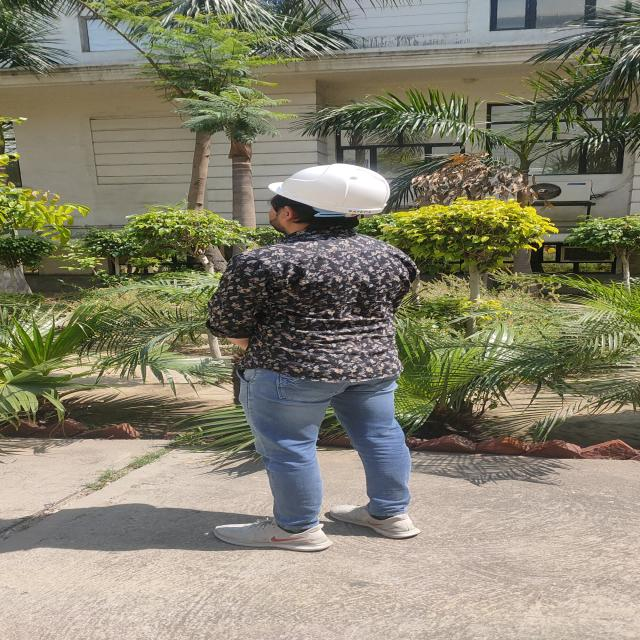no jacket: (209, 164, 417, 551)
